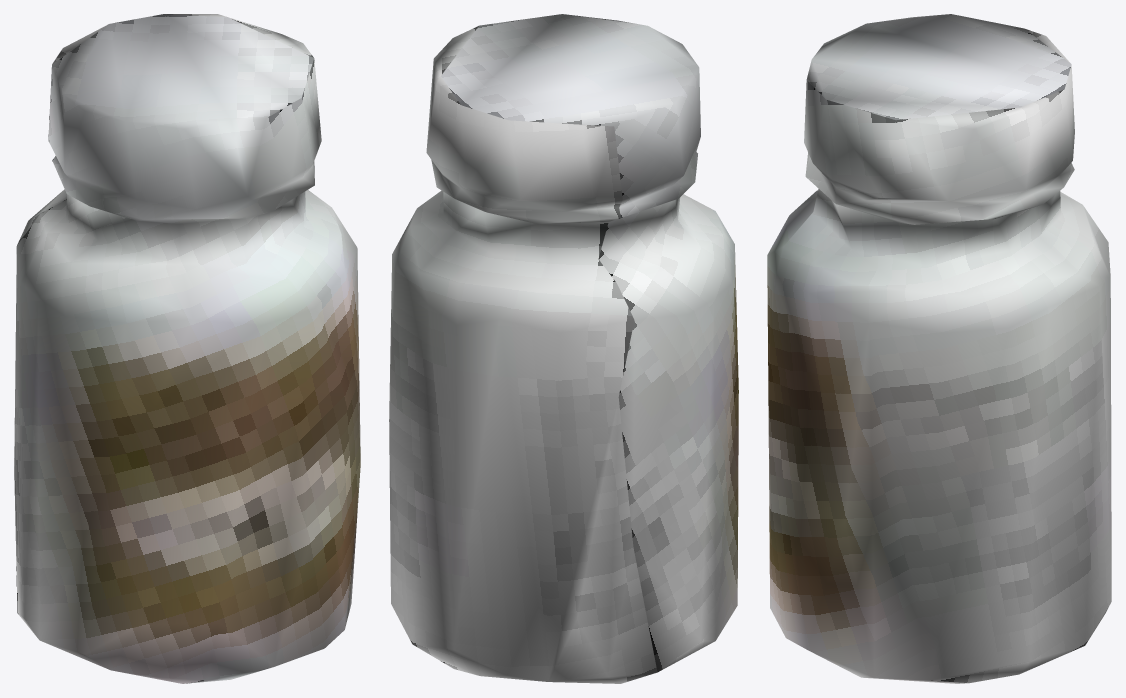
Rendered from Germanium_GE132-low.glb.
3 renders of one model, left to right at view 1: azimuth 30°, elevation 25°; view 2: azimuth 150°, elevation 25°; view 3: azimuth 270°, elevation 25°, orthographic.
Visible parts, largest first — view 1: Germanium_GE132; view 2: Germanium_GE132; view 3: Germanium_GE132.
Part boxes in pixels (box(x1,y1,x2,y2)): Germanium_GE132: box(14, 14, 360, 683); Germanium_GE132: box(389, 14, 738, 683); Germanium_GE132: box(767, 14, 1111, 683).
Size of the model in its own units: 0.0434 by 0.0772 by 0.0435.
1 material, 1 textured.
